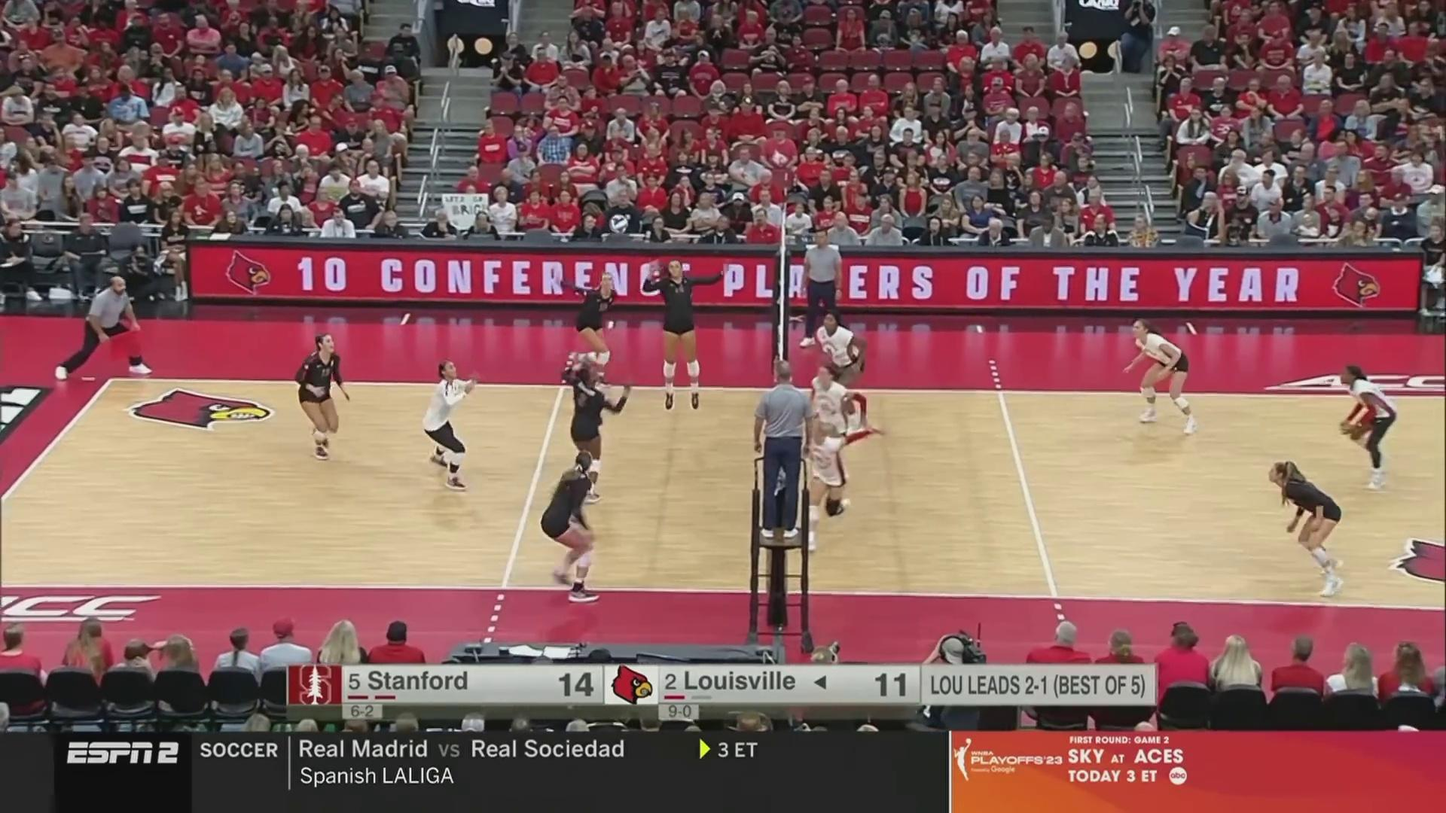player: (645, 260, 727, 409), (798, 414, 879, 553), (1268, 463, 1347, 596), (561, 357, 631, 505), (539, 450, 603, 600), (1124, 322, 1197, 436), (807, 366, 870, 491), (423, 361, 483, 492), (295, 334, 352, 465), (1338, 366, 1397, 487), (560, 269, 621, 385), (812, 312, 870, 428)
refree: (752, 360, 813, 538), (58, 275, 152, 379), (798, 232, 846, 349)
